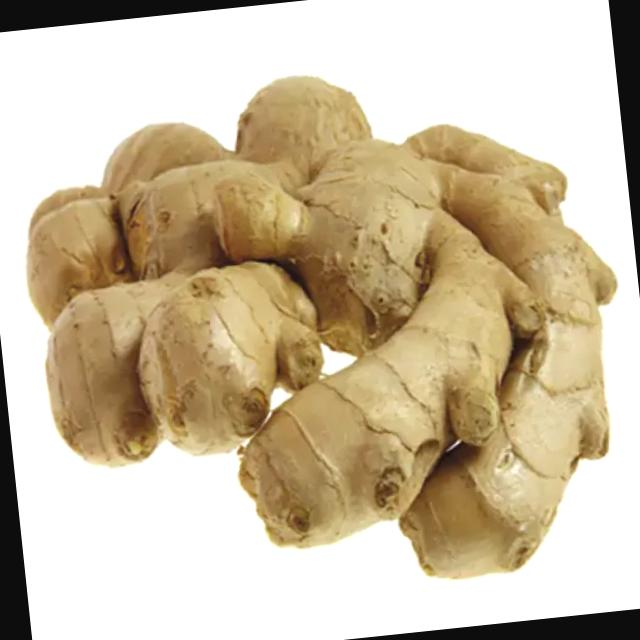ginger-root: (1, 31, 640, 621)
